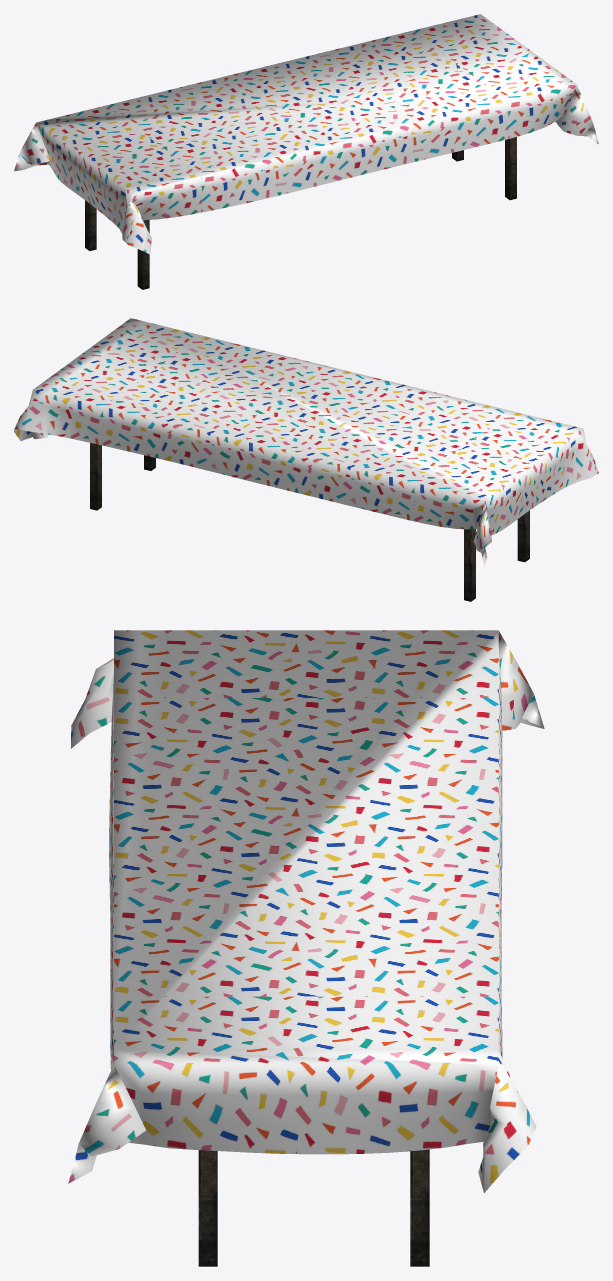
The model's file is Table.fbx.
3 views of the same model, one above another, from view 1: azimuth 30°, elevation 25°; view 2: azimuth 150°, elevation 25°; view 3: azimuth 270°, elevation 25° (orthographic). The views are drawn at different scales.
Visible parts, largest first — view 1: EndingTable; view 2: EndingTable; view 3: EndingTable.
Boxes of the visible parts, left/top/right/bottom form: EndingTable: left=14, top=14, right=598, bottom=289; EndingTable: left=14, top=318, right=598, bottom=601; EndingTable: left=68, top=630, right=544, bottom=1266.
Size of the model in its own units: 1.17 by 0.2856 by 0.513.
